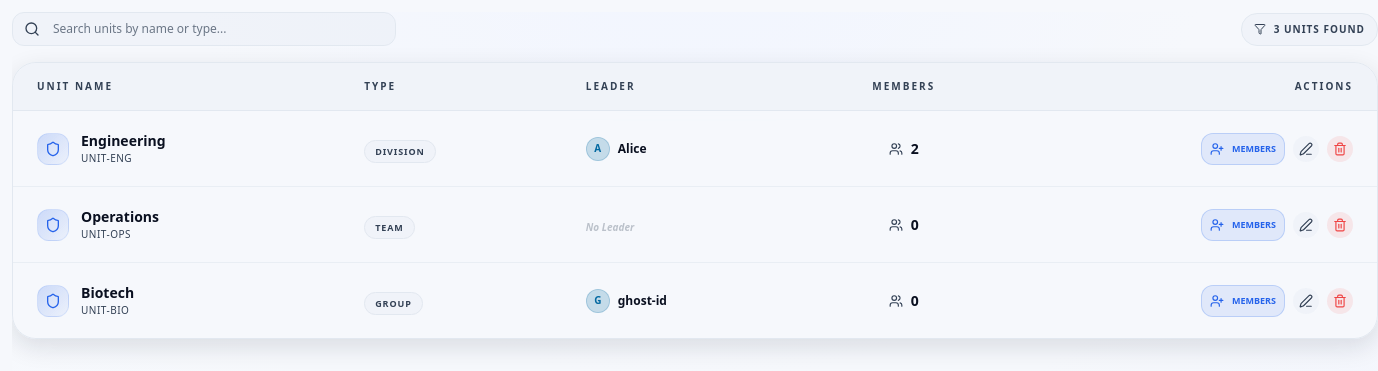
Test case: OrgUnitTable › filters nodes by type substring (case insensitive)
The image size is (1378, 371).
Type "team" into the field with placeholder "Search units by name or type..." at x=204, y=29, box [12,12,396,46]
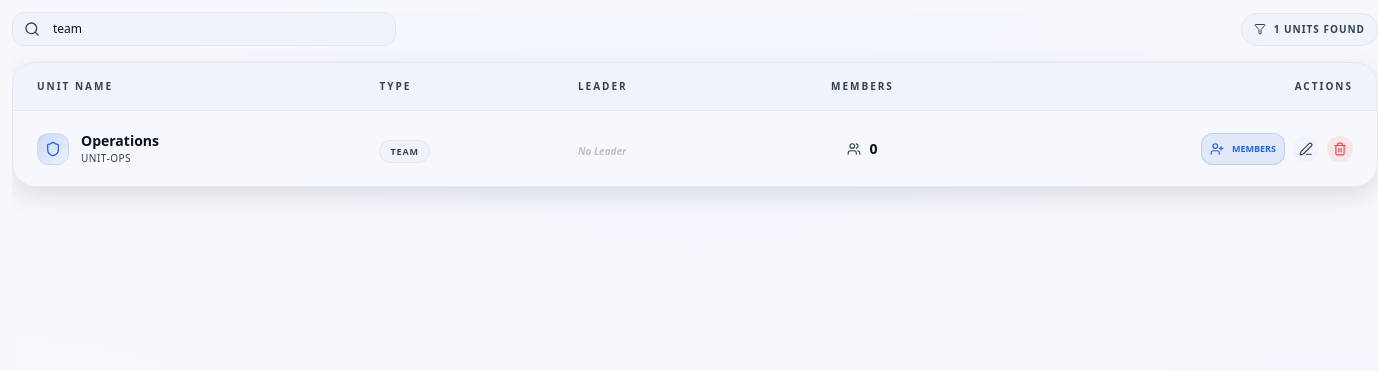
expect the text "Operations" is shown: met, box [81,131,159,151]
expect the text "Engineering" is gone: met
